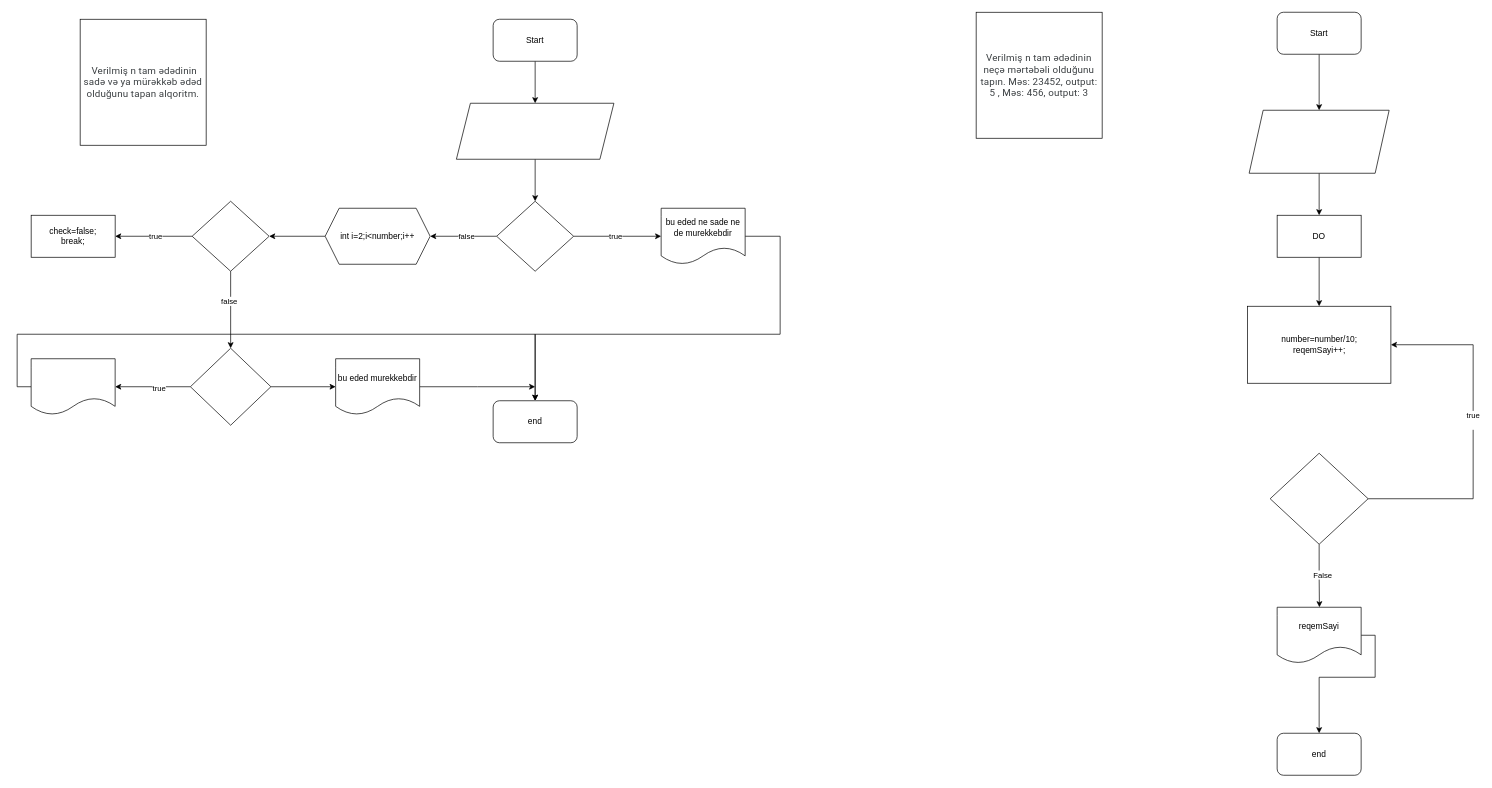
The diagram is 1492 pixels wide and 788 high, and some of its shapes have lost their labels. Here are the shapes that lost their labels. From the top down, the centre of each, then its label:
the point at 535,131: int number=Consele.ReadLine();; bool check=true;
the point at 1318,141: int number=Console.ReadLine(); int reqemSayi=0;
the point at 230,236: number%i==0
the point at 535,236: number==1
the point at 72,386: Bu eded sadedir
the point at 230,386: check
the point at 1318,498: num!=0
